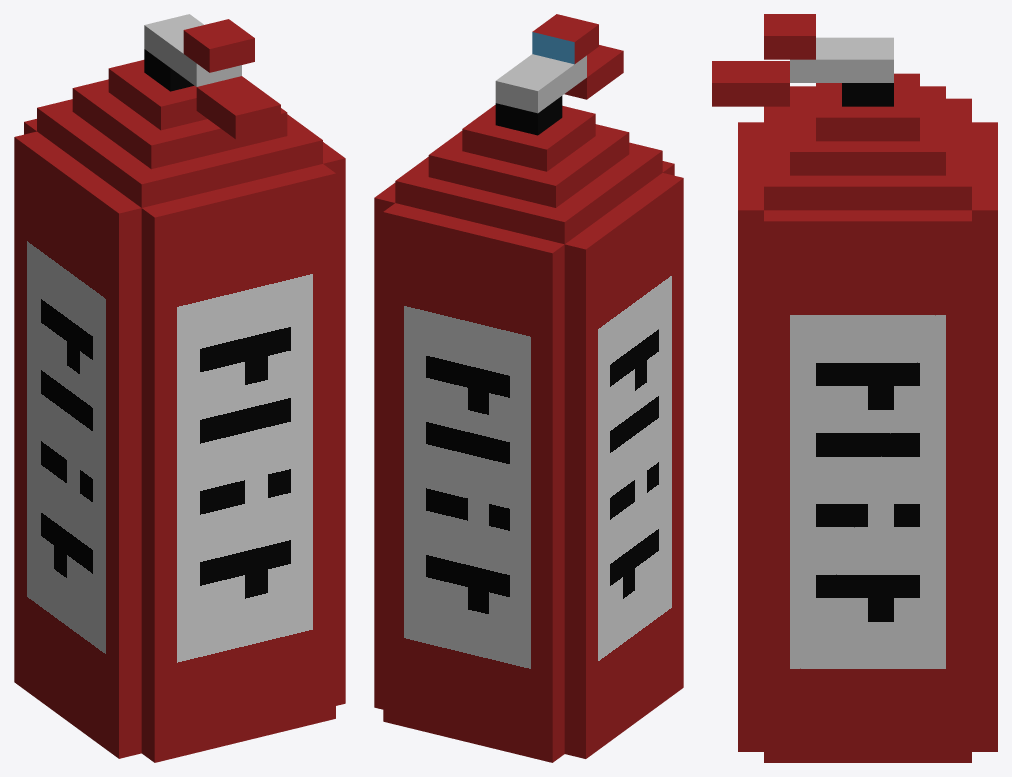
File: extinctor.fbx
The picture shows the model from 3 angles, left to right: view 1: azimuth 30°, elevation 25°; view 2: azimuth 150°, elevation 25°; view 3: azimuth 270°, elevation 25°; orthographic projection. The views are drawn at different scales.
Visible parts, largest first — view 1: cube_2, cube_1, cube_5, cube_6, cube, cube_10, cube_7, cube_11, cube_9, cube_8; view 2: cube_3, cube_1, cube_5, cube_6, cube, cube_7, cube_9, cube_11, cube_10, cube_8; view 3: cube, cube_2, cube_3, cube_5, cube_6, cube_7, cube_9, cube_10, cube_11, cube_8.
Part boxes in pixels (x1,y1,x2,y2): cube_2: [141, 164, 335, 762]; cube_1: [14, 131, 141, 758]; cube_5: [37, 99, 322, 207]; cube_6: [72, 79, 287, 169]; cube: [323, 142, 345, 705]; cube_10: [196, 76, 280, 139]; cube_7: [108, 60, 207, 130]; cube_11: [183, 19, 254, 72]; cube_9: [144, 14, 241, 86]; cube_8: [144, 49, 194, 91]; cube_3: [383, 203, 564, 762]; cube_1: [564, 173, 683, 758]; cube_5: [395, 142, 662, 244]; cube_6: [428, 124, 629, 207]; cube: [374, 183, 395, 709]; cube_7: [462, 105, 595, 171]; cube_9: [495, 54, 586, 113]; cube_11: [532, 14, 598, 64]; cube_10: [564, 45, 623, 99]; cube_8: [495, 96, 562, 135]; cube: [764, 210, 971, 762]; cube_2: [738, 122, 763, 751]; cube_3: [972, 122, 997, 751]; cube_5: [764, 98, 971, 210]; cube_6: [790, 86, 945, 175]; cube_7: [816, 73, 919, 141]; cube_9: [790, 37, 893, 82]; cube_10: [712, 61, 789, 106]; cube_11: [764, 14, 815, 59]; cube_8: [842, 83, 893, 106].
Size of the model in its own units: 62.5 by 181 by 68.75.
1 material, 1 textured.
